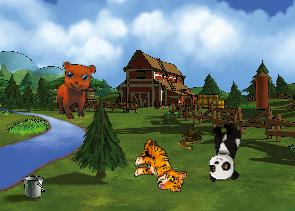bear: (55, 60, 98, 120)
panda: (207, 121, 241, 182)
tiger: (128, 136, 193, 196)
